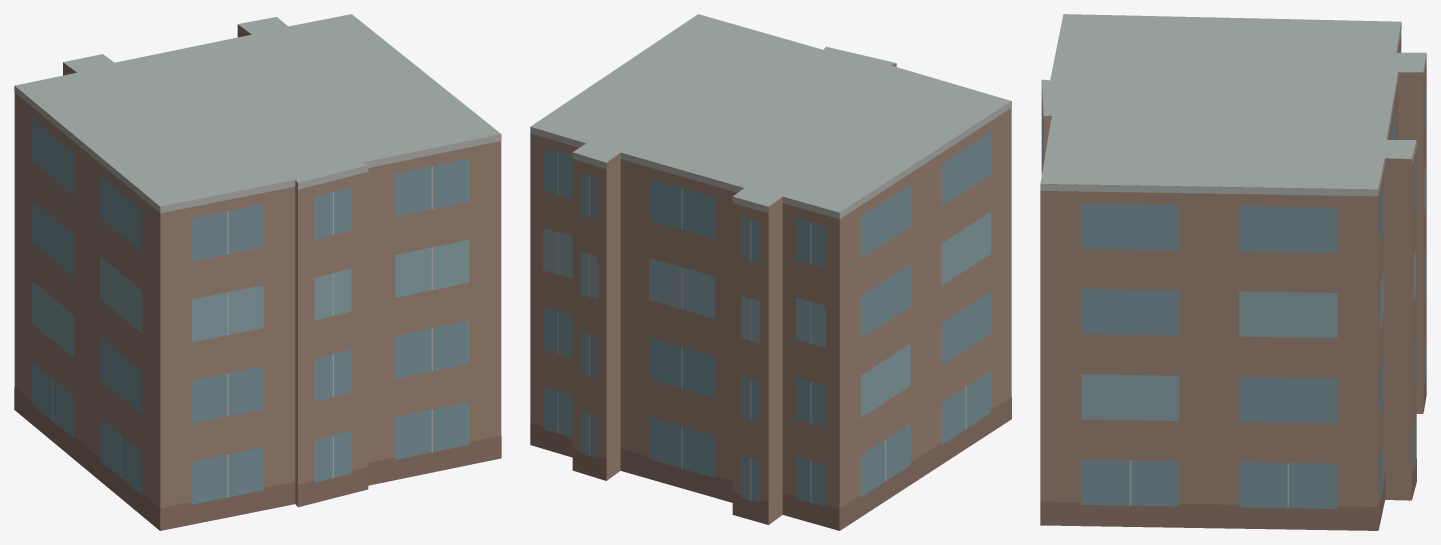
File: survey-upis-32690749.glb
3 views of the same model, side by side, from view 1: azimuth 30°, elevation 25°; view 2: azimuth 150°, elevation 25°; view 3: azimuth 270°, elevation 25° (orthographic). The views are drawn at different scales.
Parts seen in each view (by area): view 1: survey-upis-32690749.tmp; view 2: survey-upis-32690749.tmp; view 3: survey-upis-32690749.tmp.
Part boxes in pixels (x1,y1,x2,y2): survey-upis-32690749.tmp: (14,14,501,530); survey-upis-32690749.tmp: (530,14,1011,530); survey-upis-32690749.tmp: (1040,14,1426,530).
Size of the model in its own units: 13.04 by 11.84 by 12.15.
